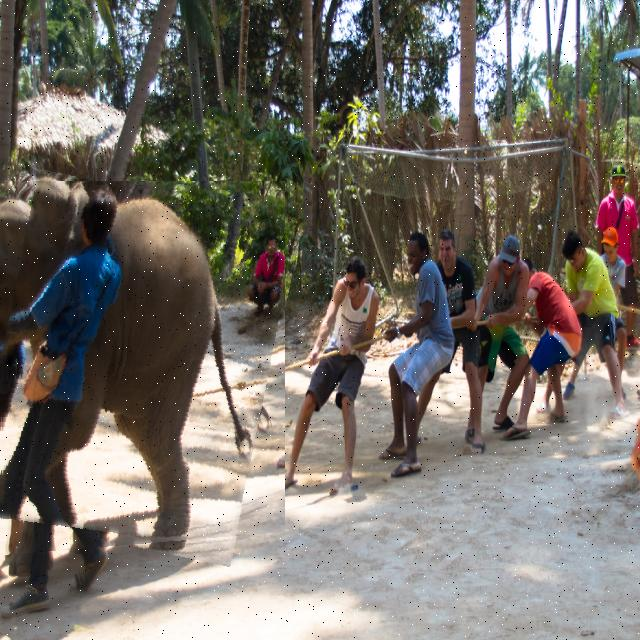elephant: (0, 181, 285, 555)
